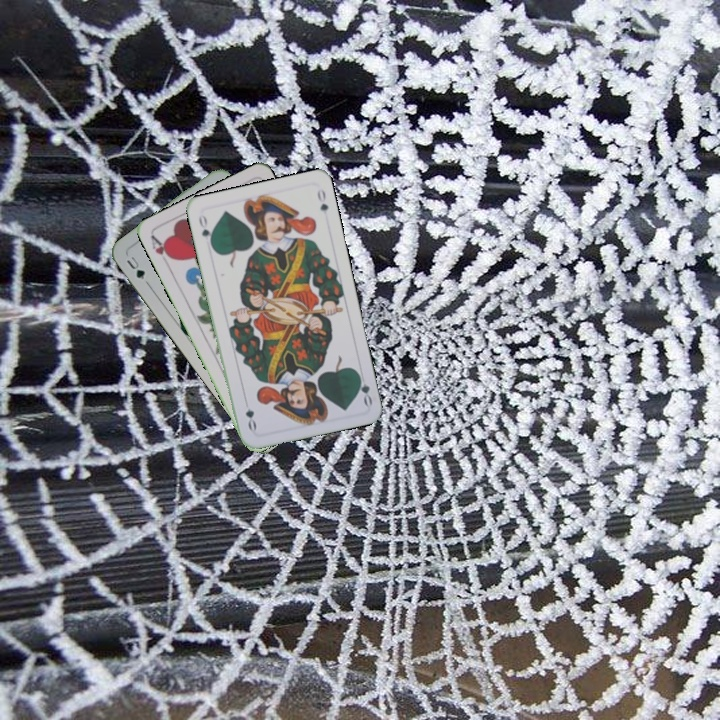GO: (353, 368, 375, 408), (195, 210, 215, 250)
GU: (122, 252, 148, 282)
HA: (147, 232, 176, 263)
